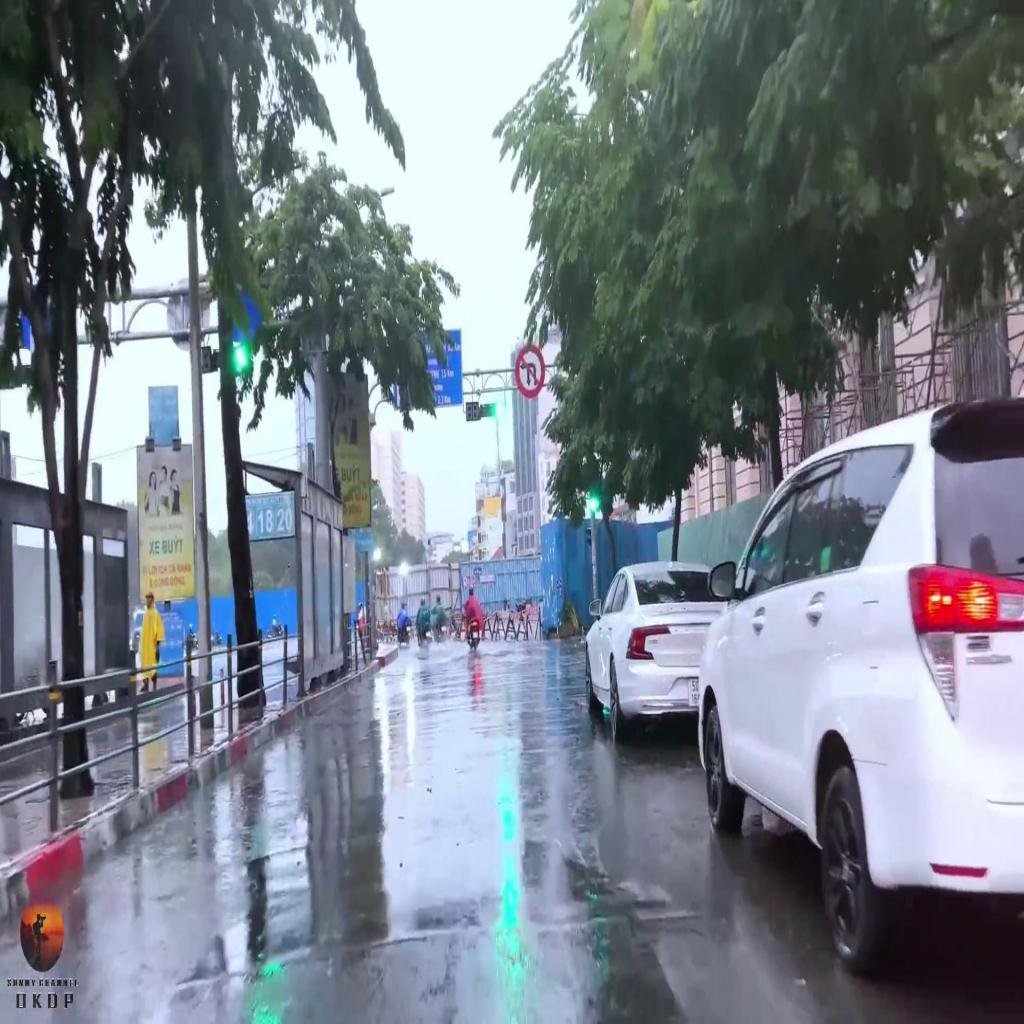khac: (514, 337, 546, 396)
